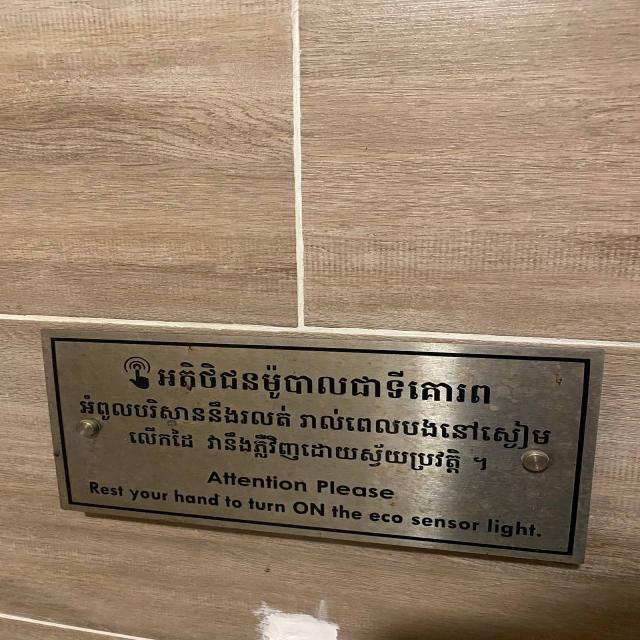1: (77, 390, 554, 454), (123, 423, 495, 480)
Yolov11_80vkh: (150, 356, 499, 412)
